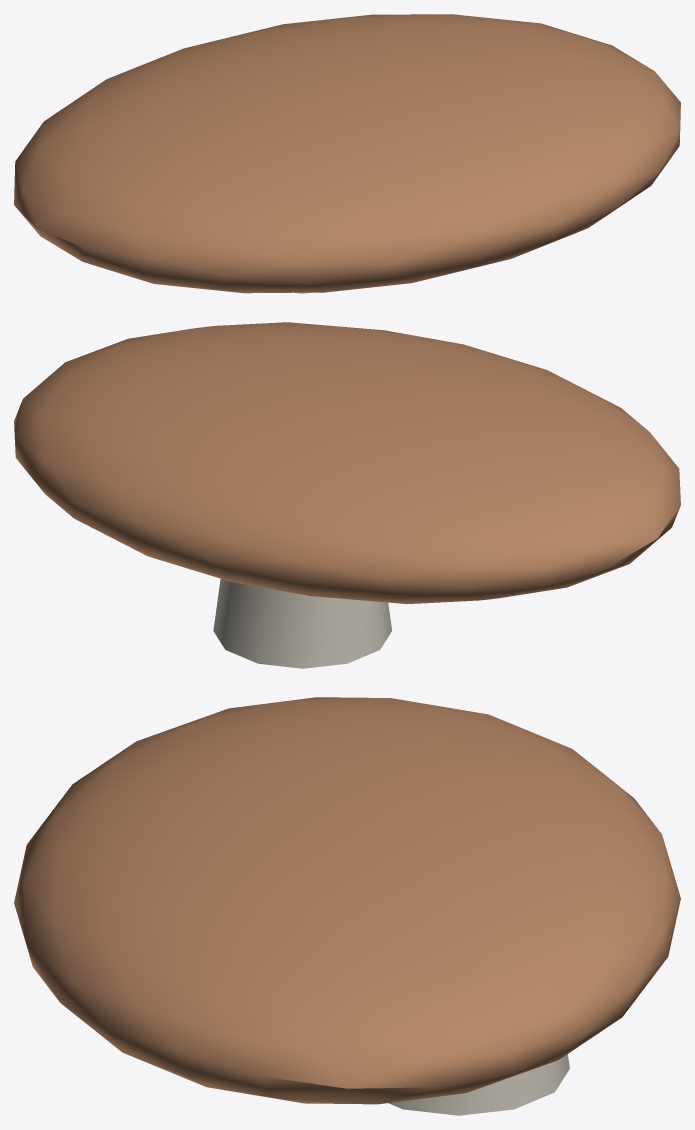
The model's file is panus-tephroleucus.glb.
3 renders of one model, top to bottom at view 1: azimuth 30°, elevation 25°; view 2: azimuth 150°, elevation 25°; view 3: azimuth 270°, elevation 25°, orthographic. The views are drawn at different scales.
Visible parts, largest first — view 1: shelf; view 2: shelf, stalk; view 3: shelf, stalk.
Part boxes in pixels (<box>): shelf: <box>14,14,680,293</box>; shelf: <box>14,322,680,604</box>; stalk: <box>213,579,391,668</box>; shelf: <box>14,697,680,1104</box>; stalk: <box>388,1054,569,1115</box>.
Size of the model in its own units: 0.48 by 0.1493 by 0.3599.
